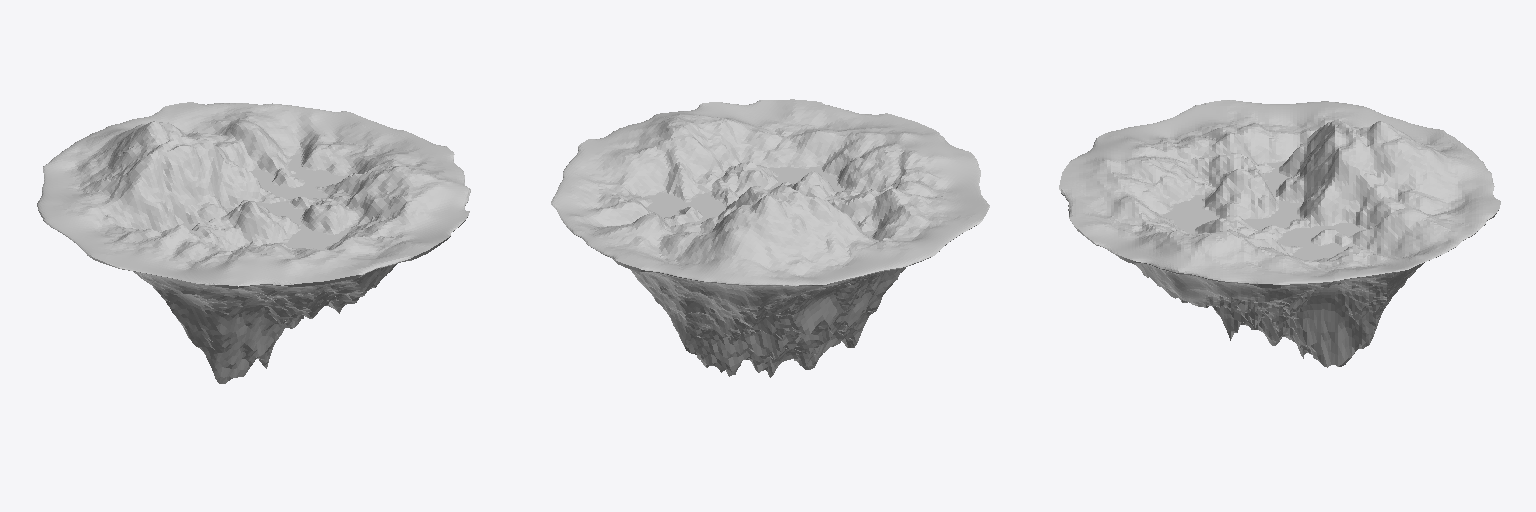
The model's file is onigashima.obj.
3 renders of one model, left to right at view 1: azimuth 30°, elevation 25°; view 2: azimuth 150°, elevation 25°; view 3: azimuth 270°, elevation 25°, orthographic.
Visible parts, largest first — view 1: onigashima; view 2: onigashima; view 3: onigashima.
Part boxes in pixels (bbox=[...]): onigashima: bbox=[37, 102, 470, 383]; onigashima: bbox=[551, 99, 989, 377]; onigashima: bbox=[1059, 100, 1500, 367].
Bounding box in the file's own units: 1.99 × 1.1 × 2.01.